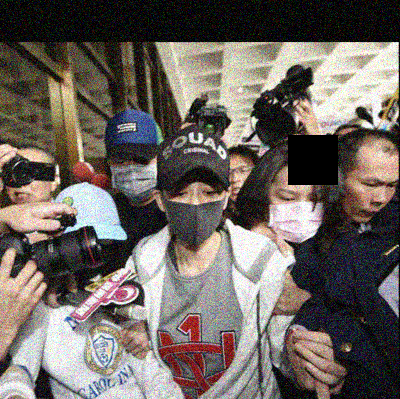with_mask: (160, 176, 225, 252), (265, 185, 324, 242), (108, 154, 159, 203)
without_mask: (341, 171, 398, 225), (5, 158, 53, 205), (227, 162, 253, 202)
